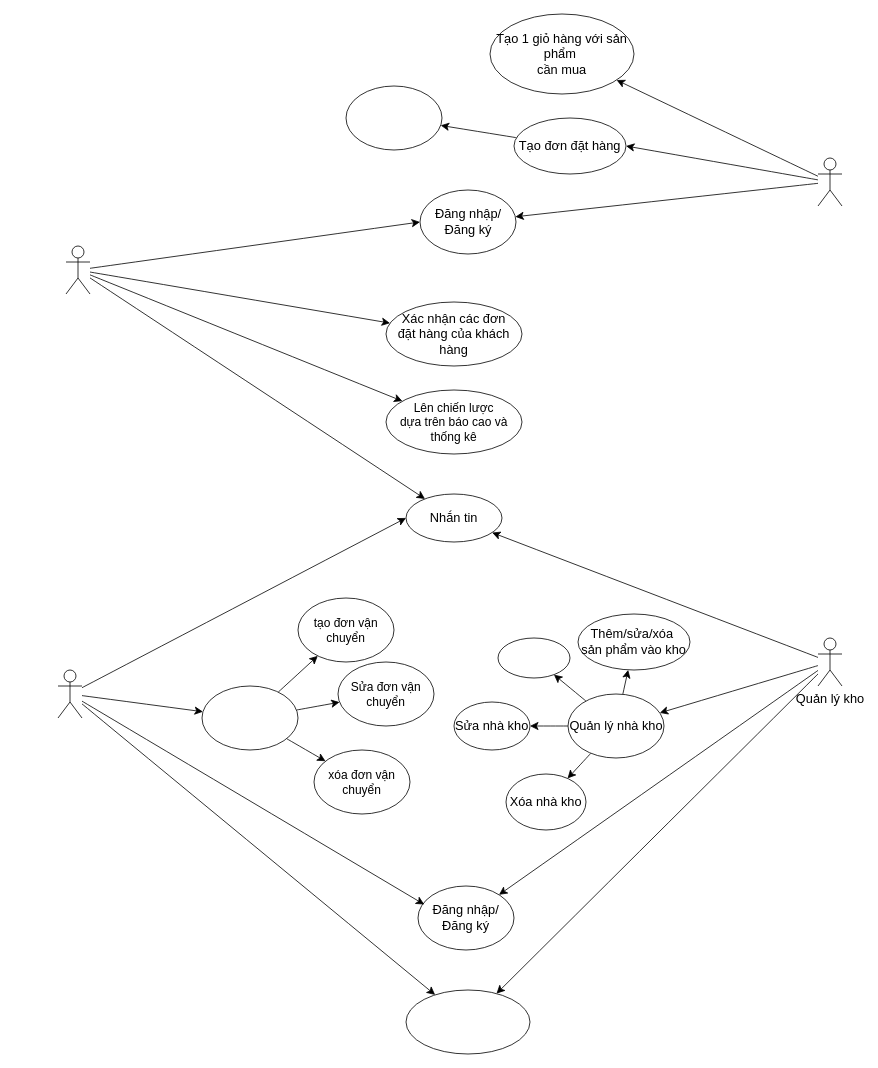
Some shapes in this 878 by 1068 pixel diagram are drawn without their labels. The box of each missing label's shape, as (x1, y1, x2, y2) in pixels:
Khách hàng: (817, 157, 842, 206)
Quản lý chuỗi: (65, 245, 90, 294)
Quản lý vận chuyển: (57, 669, 82, 718)
Quản lý đơn vận chuyển: (201, 685, 298, 750)
Thêm nhà kho: (497, 637, 570, 678)
Xem chiến lược của quản lý chuỗi: (405, 989, 530, 1054)
xác nhận đơn hàng đã giao đến nơi: (345, 85, 442, 150)
